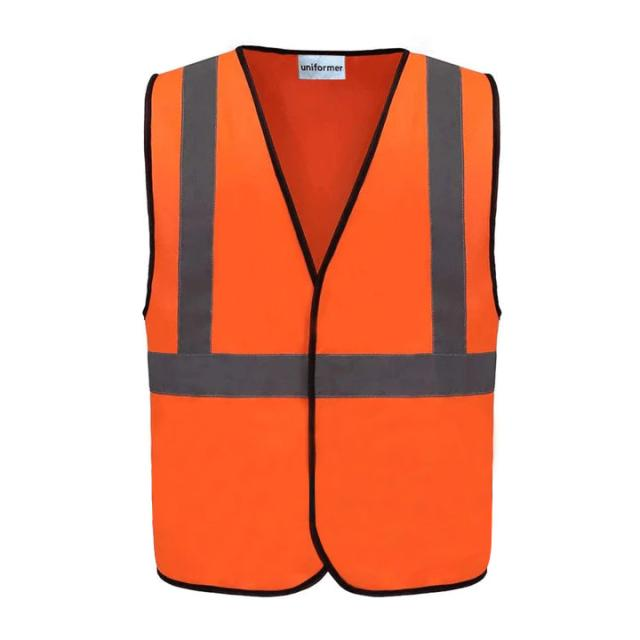safety_helmet: (125, 46, 508, 596)
